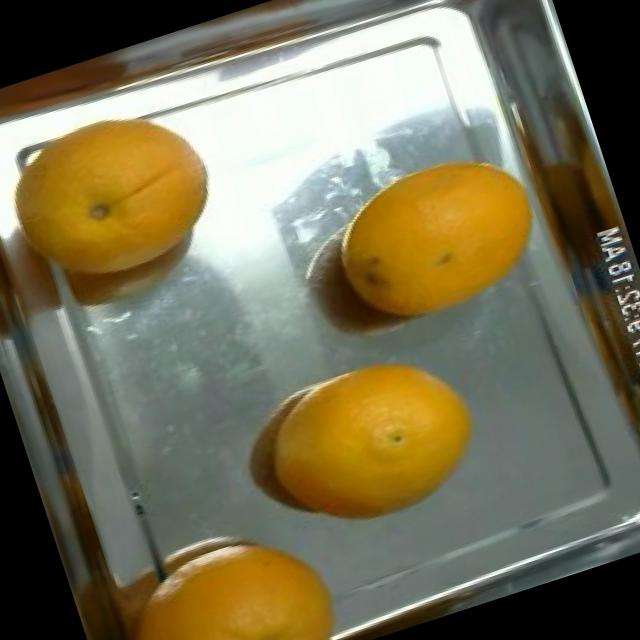Fruit: (314, 125, 572, 355), (266, 322, 510, 548)
